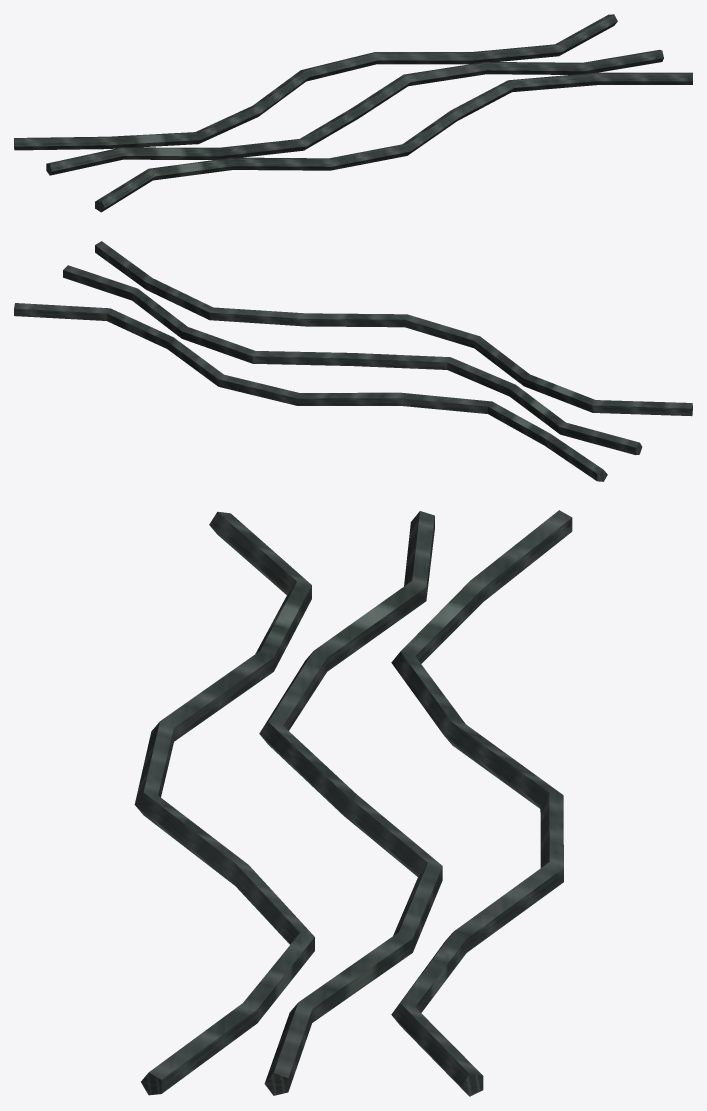
The model's file is floor_cables.glb.
3 views of the same model, one above another, from view 1: azimuth 30°, elevation 25°; view 2: azimuth 150°, elevation 25°; view 3: azimuth 270°, elevation 25° (orthographic). The views are drawn at different scales.
Visible parts, largest first — view 1: FloorCables; view 2: FloorCables; view 3: FloorCables.
Boxes of the visible parts, x1,y1,x2,y2 form: FloorCables: [14, 14, 692, 212]; FloorCables: [14, 241, 692, 481]; FloorCables: [134, 510, 572, 1096].
Size of the model in its own units: 4.03 by 0.0761 by 1.32.
Materials: 1 (1 with a texture image).
